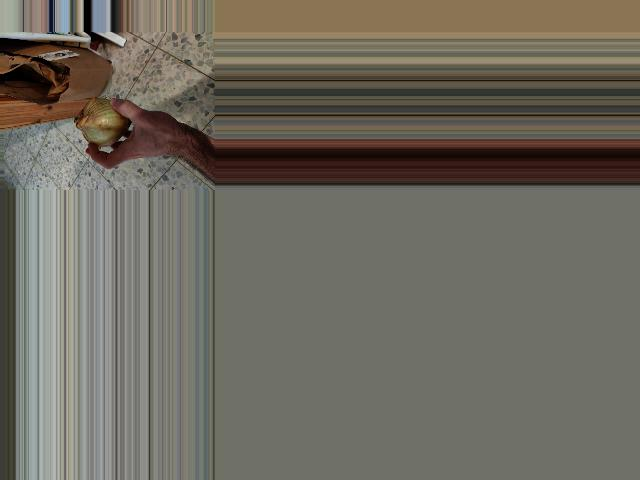onion: (72, 95, 136, 151)
